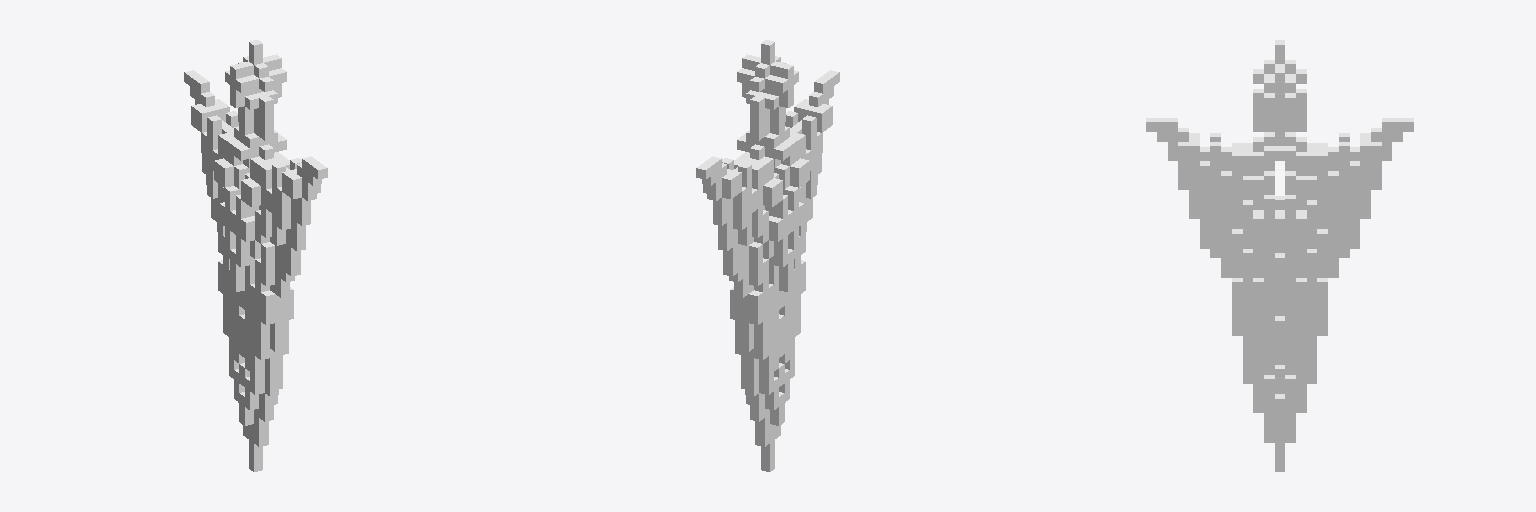
Rendered from saveverate.obj.
The picture shows the model from 3 angles: view 1: azimuth 30°, elevation 25°; view 2: azimuth 150°, elevation 25°; view 3: azimuth 270°, elevation 25°; orthographic projection.
Size of the model in its own units: 5 by 44 by 25.